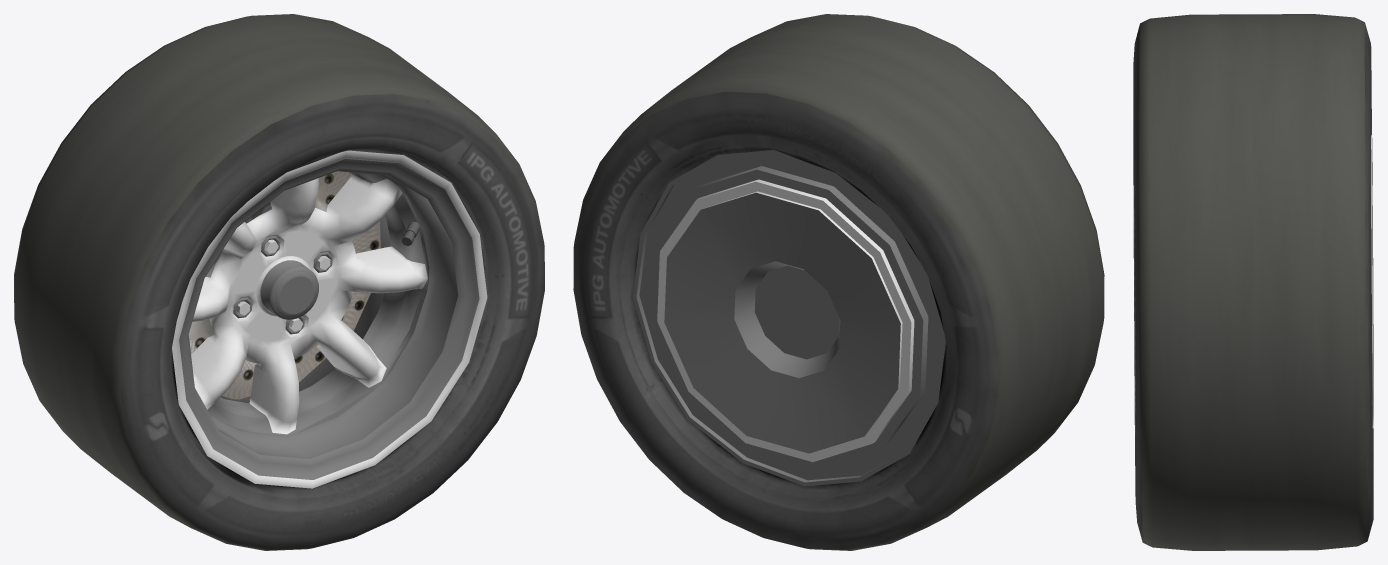
Rendered from FSAI_Wheel.glb.
3 views of the same model, side by side, from view 1: azimuth 30°, elevation 25°; view 2: azimuth 150°, elevation 25°; view 3: azimuth 270°, elevation 25° (orthographic). The views are drawn at different scales.
Parts seen in each view (by area): view 1: Wheel_fl.002_Plane.008; view 2: Wheel_fl.002_Plane.008; view 3: Wheel_fl.002_Plane.008.
Boxes of the visible parts, box(x1,y1,x2,y2) form: Wheel_fl.002_Plane.008: box(14, 14, 544, 550); Wheel_fl.002_Plane.008: box(573, 14, 1104, 550); Wheel_fl.002_Plane.008: box(1133, 14, 1373, 550).
Bounding box in the file's own units: 0.5133 × 0.5139 × 0.2308.
5 materials, 2 textured.
